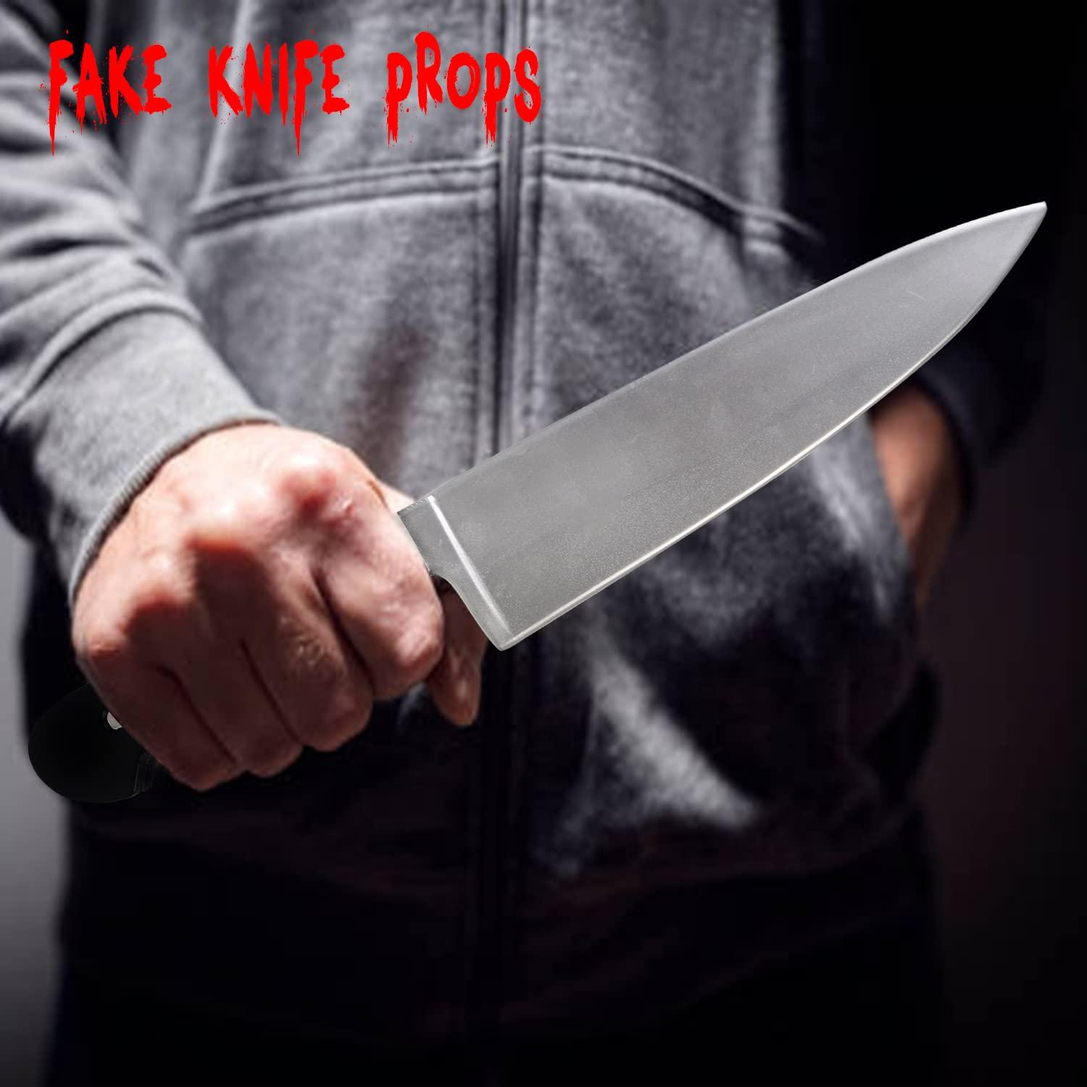Knife: (0, 0, 946, 1087), (409, 200, 1049, 651), (75, 417, 472, 796)
